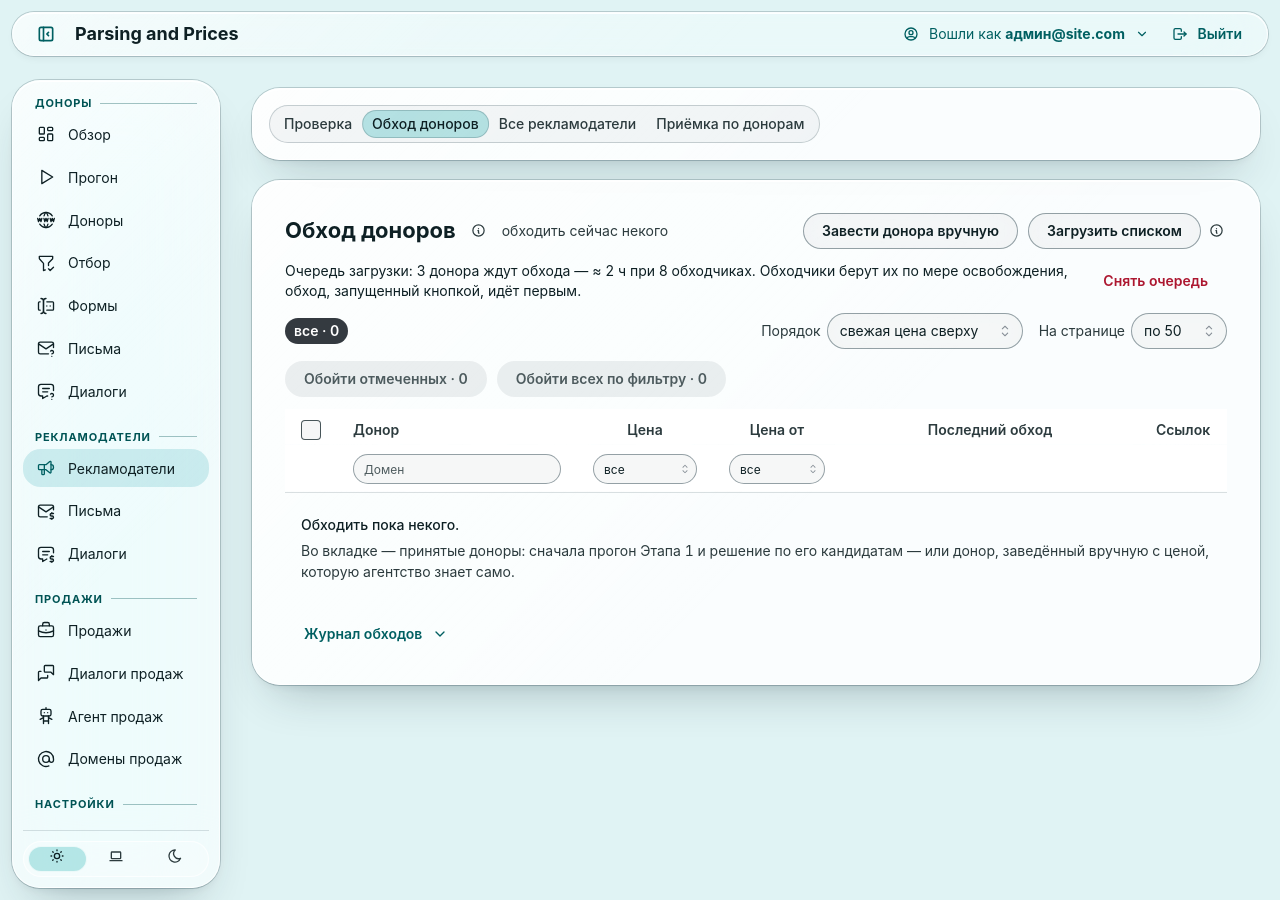
Test: доноры списком › очередь загрузки — сколько ждёт и сколько займёт; снимается с вопросом
Expected: the text "Очередь загрузки: 3 донора ждут обхода — ≈ 2 ч при 8 обходчиках" is shown, 285,261 -> 1072,301
Click the button "Снять очередь".
click(1156, 281)  # box 1084,263 -> 1227,299
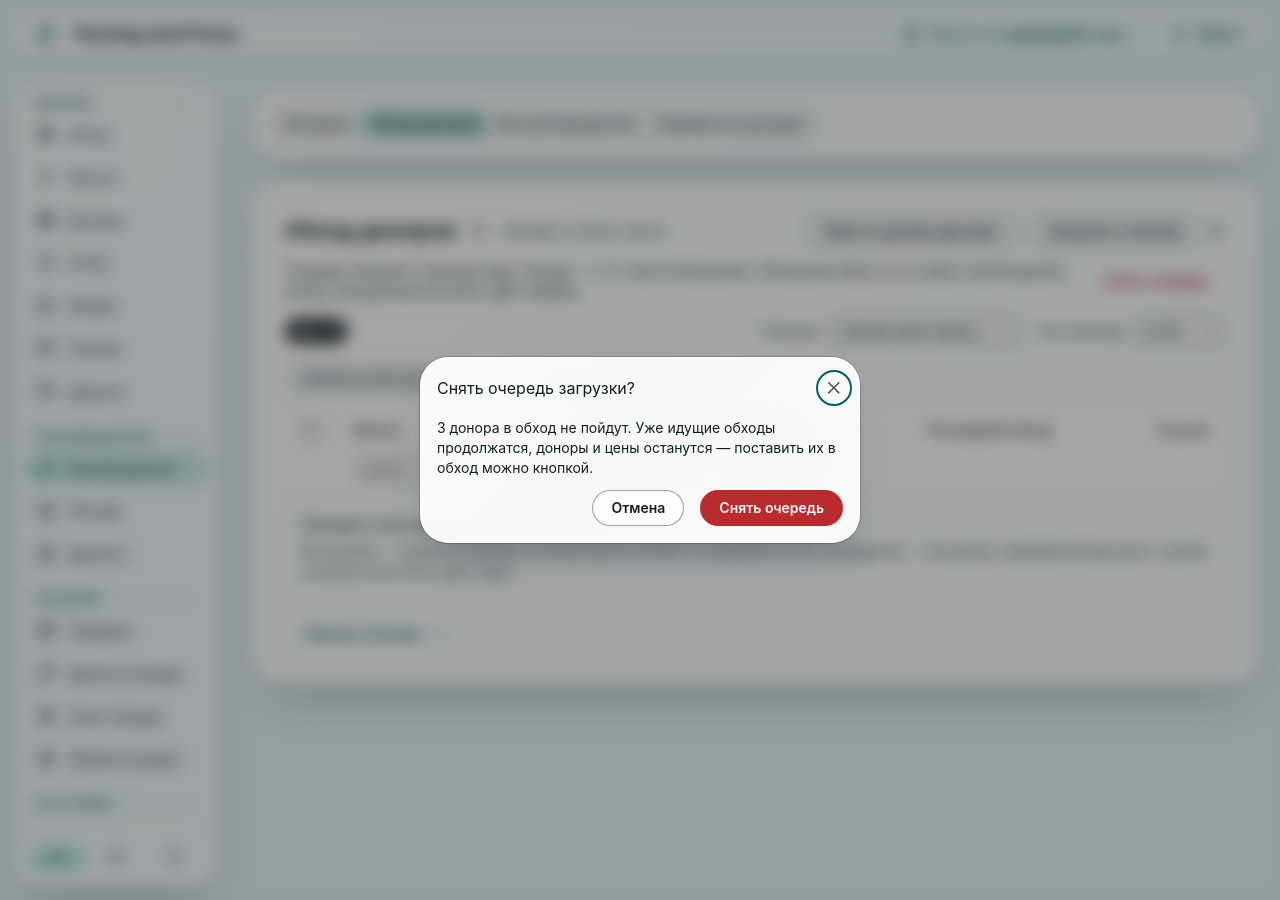
Click the button "Снять очередь".
click(772, 508)  # box 700,490 -> 843,526
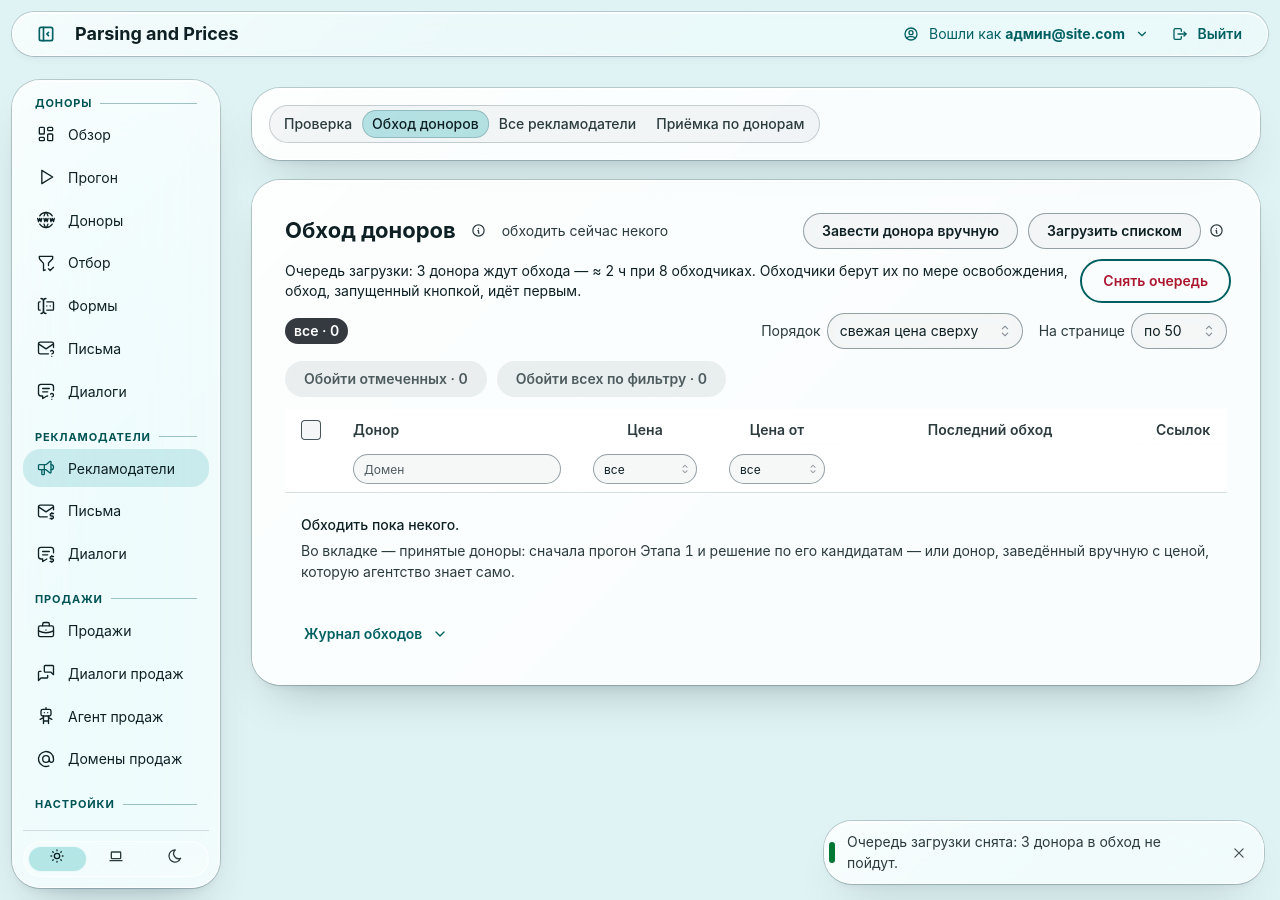
Expected: the text "Очередь загрузки снята: 3 донора в обход не пойдут." is shown, 847,832 -> 1215,873
